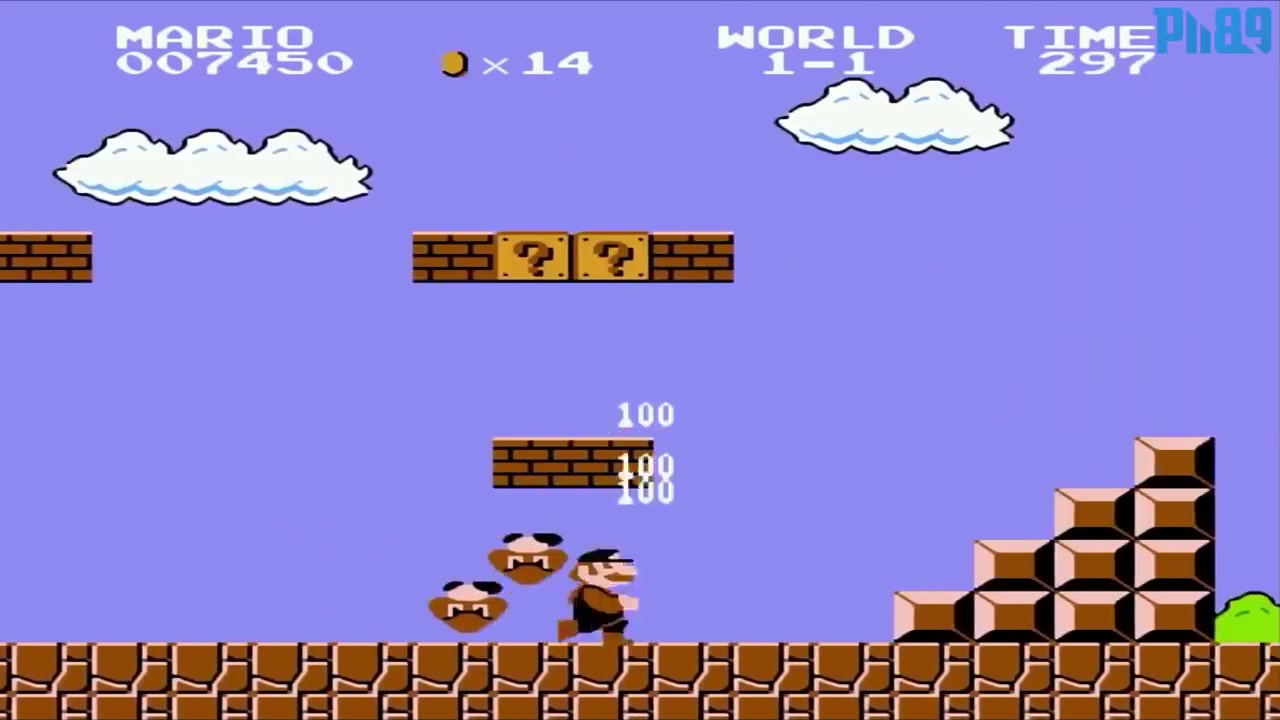mario: (553, 542, 639, 647)
